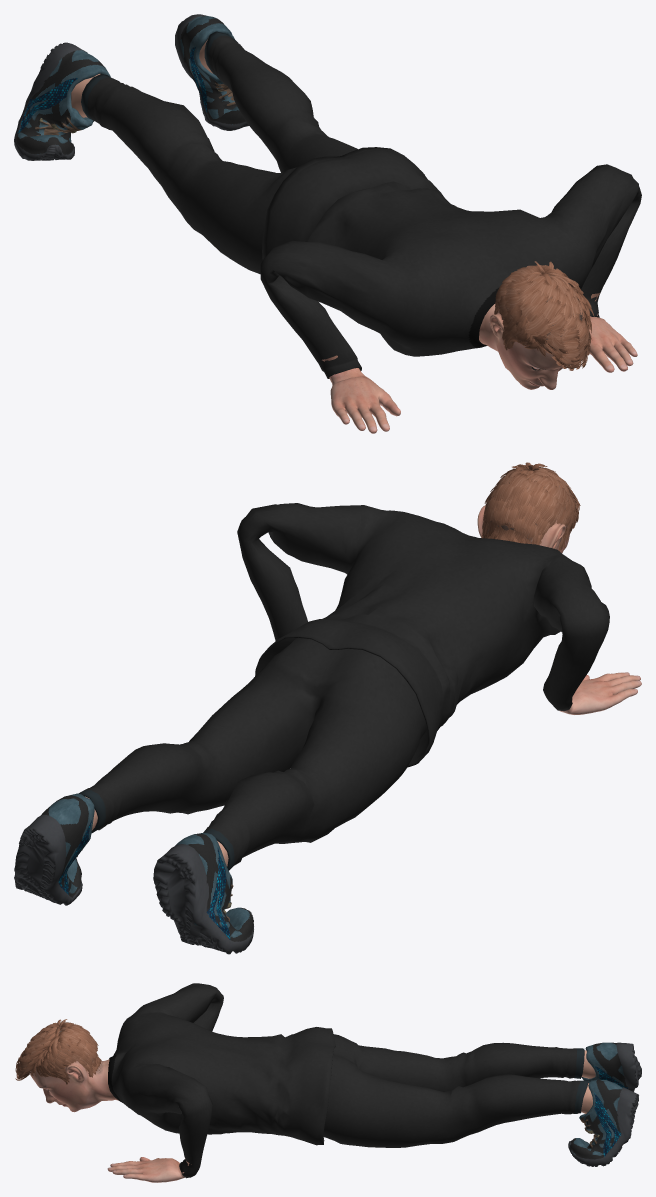
Rendered from coach_Mec_Pompe.obj.
3 views of the same model, one above another, from view 1: azimuth 30°, elevation 25°; view 2: azimuth 150°, elevation 25°; view 3: azimuth 270°, elevation 25° (orthographic). The views are drawn at different scales.
Visible parts, largest first — view 1: Tops_Topsmesh, Bottoms_Bottomsmesh, Shoes_Shoesmesh, Body_Bodymesh, Hair_Hairmesh; view 2: Tops_Topsmesh, Bottoms_Bottomsmesh, Shoes_Shoesmesh, Hair_Hairmesh, Body_Bodymesh; view 3: Tops_Topsmesh, Bottoms_Bottomsmesh, Shoes_Shoesmesh, Body_Bodymesh, Hair_Hairmesh.
Boxes of the visible parts, x1,y1,x2,y2 form: Tops_Topsmesh: (260, 147, 641, 378); Bottoms_Bottomsmesh: (81, 31, 357, 274); Shoes_Shoesmesh: (14, 14, 248, 160); Body_Bodymesh: (71, 39, 637, 433); Hair_Hairmesh: (494, 261, 594, 370); Tops_Topsmesh: (237, 503, 609, 767); Bottoms_Bottomsmesh: (78, 638, 427, 870); Shoes_Shoesmesh: (14, 793, 253, 954); Hair_Hairmesh: (481, 462, 580, 551); Body_Bodymesh: (85, 469, 641, 866); Tops_Topsmesh: (108, 983, 335, 1178); Bottoms_Bottomsmesh: (323, 1034, 588, 1147); Shoes_Shoesmesh: (568, 1042, 641, 1166); Body_Bodymesh: (29, 1027, 595, 1182); Hair_Hairmesh: (15, 1019, 101, 1084).
Size of the model in its own units: 0.8573 by 0.379 by 1.85.
